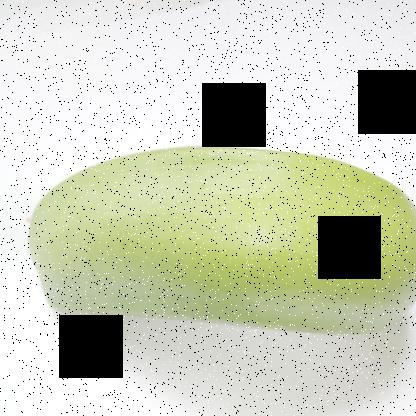freshunripe: (21, 108, 416, 350)
